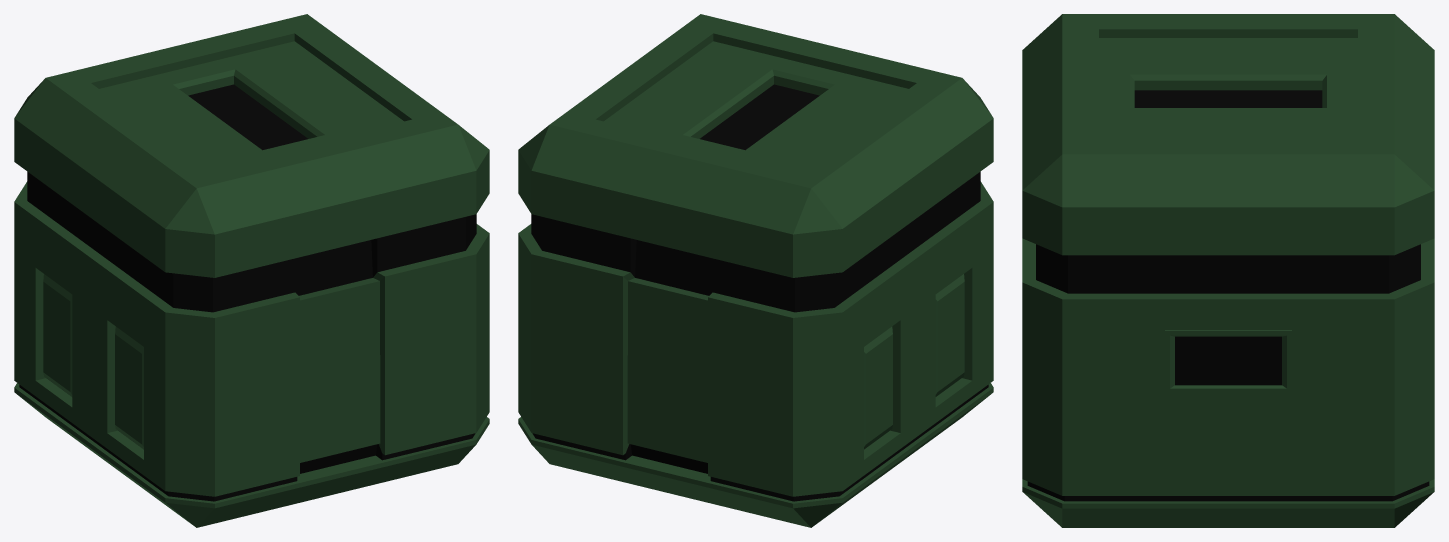
3 renders of one model, left to right at view 1: azimuth 30°, elevation 25°; view 2: azimuth 150°, elevation 25°; view 3: azimuth 270°, elevation 25°, orthographic. The views are drawn at different scales.
Parts seen in each view (by area): view 1: Cube; view 2: Cube; view 3: Cube.
Boxes of the visible parts, x1,y1,x2,y2 form: Cube: [14, 14, 489, 527]; Cube: [518, 14, 993, 527]; Cube: [1022, 14, 1434, 527].
Bounding box in the file's own units: 201 × 200 × 200.
